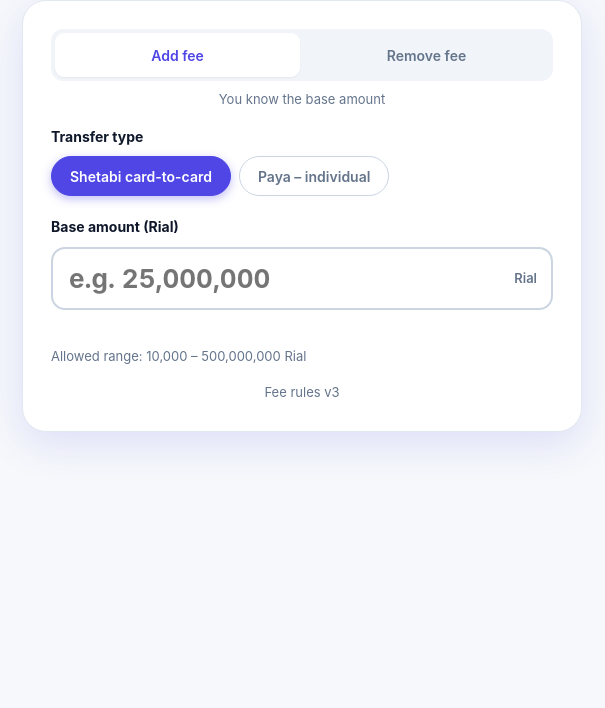
Test case: Calculator › supports remove mode (total -> base)
This screenshot has width=605, height=708.
Expected: the button "Shetabi card-to-card" is shown, [51, 156, 231, 196]
Click the button "Remove fee" at x=426, y=55, box [304, 33, 549, 77]
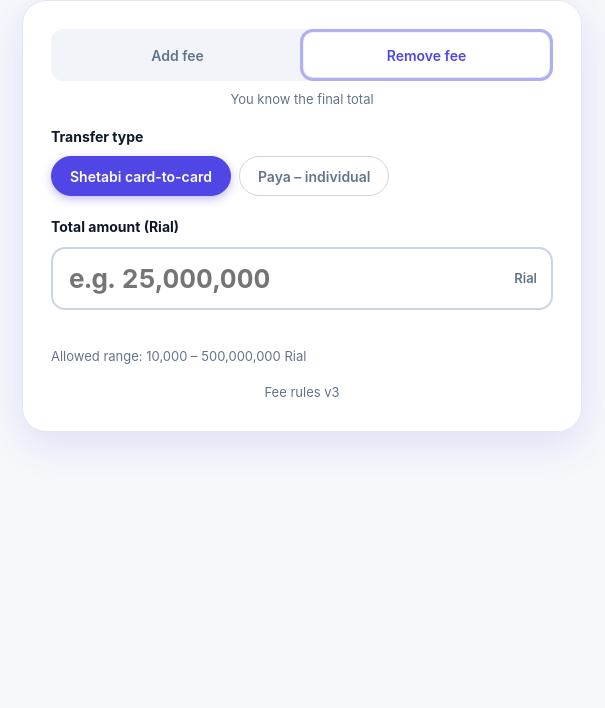
Type "10000000" into the field labelled "Total amount (Rial)" at x=302, y=278, box [51, 247, 553, 310]
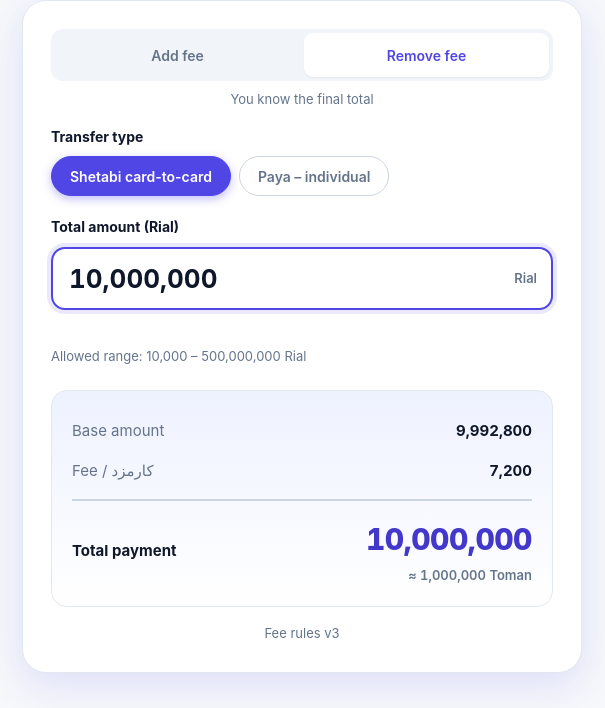
Expected: the text "9,992,800" is shown, [456, 419, 532, 443]
Expected: the text "10,000,000" is shown, [366, 521, 532, 557]
